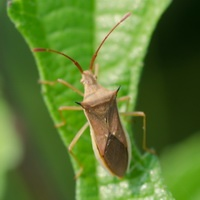insect: (32, 12, 131, 177)
